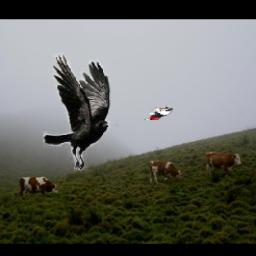Crow: (44, 53, 111, 174)
Woodpecker: (144, 106, 174, 121)
